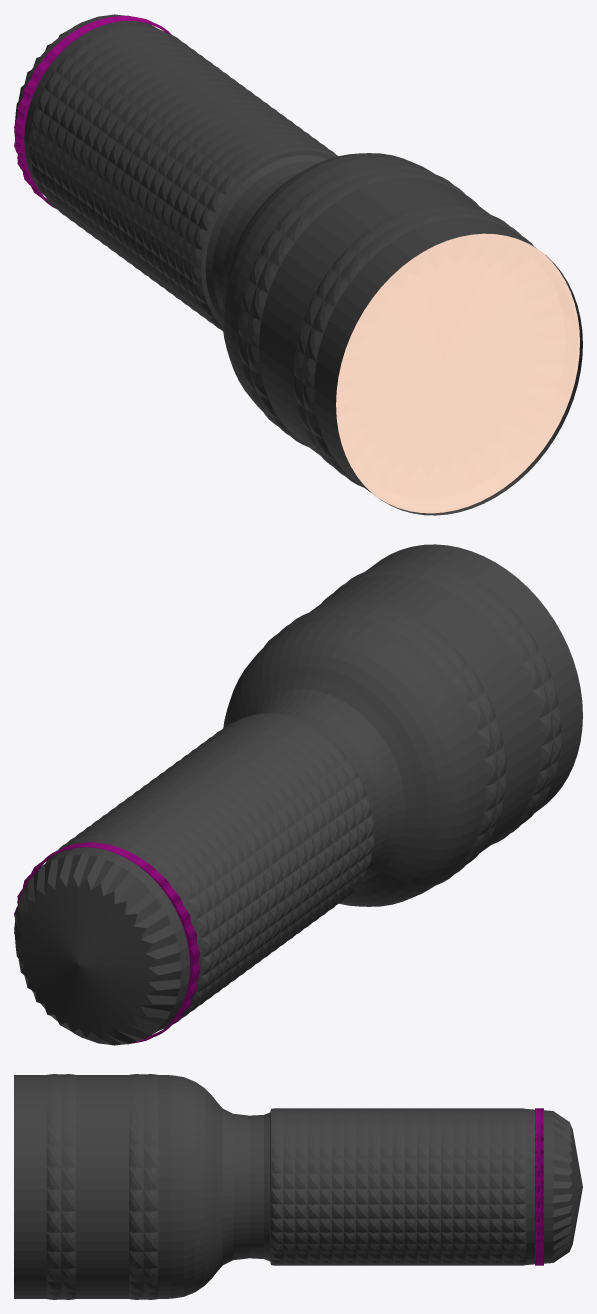
The model's file is flashlight.glb.
3 renders of one model, top to bottom at view 1: azimuth 30°, elevation 25°; view 2: azimuth 150°, elevation 25°; view 3: azimuth 270°, elevation 25°, orthographic. The views are drawn at different scales.
Visible parts, largest first — view 1: Cylinder.005; view 2: Cylinder.005; view 3: Cylinder.005.
Part boxes in pixels (x1,y1,x2,y2): Cylinder.005: (14,14,582,515); Cylinder.005: (14,544,582,1045); Cylinder.005: (14,1074,582,1299).
Bounding box in the file's own units: 0.1927 × 0.1994 × 0.499.
